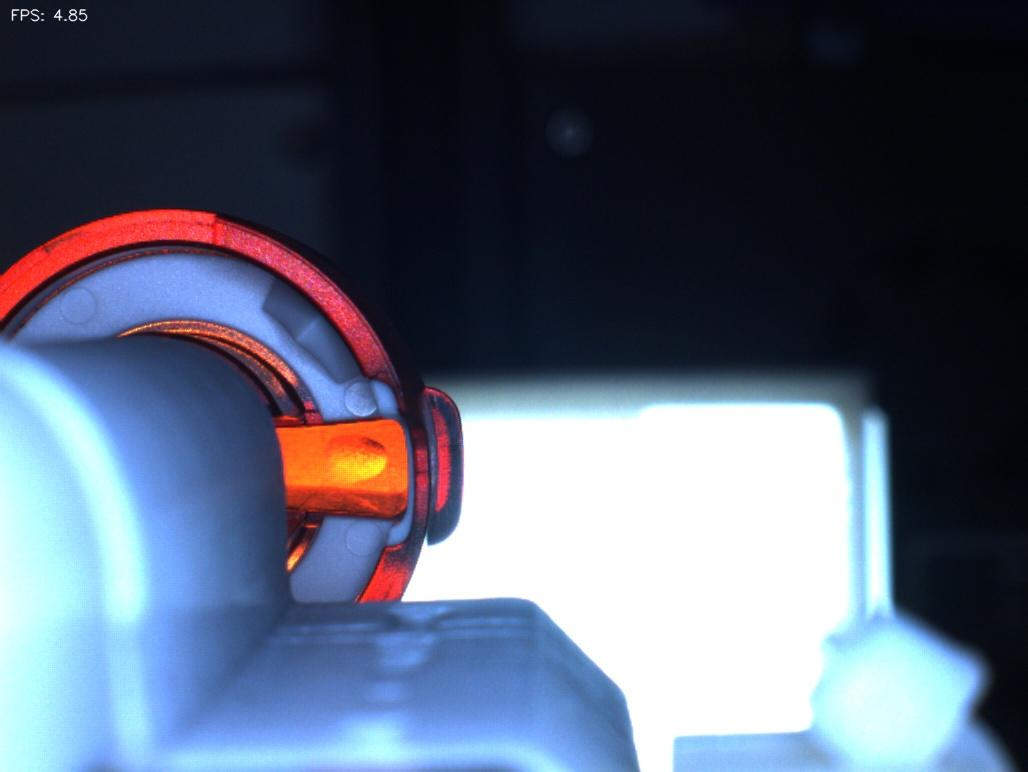Retassure: (304, 428, 397, 496)
